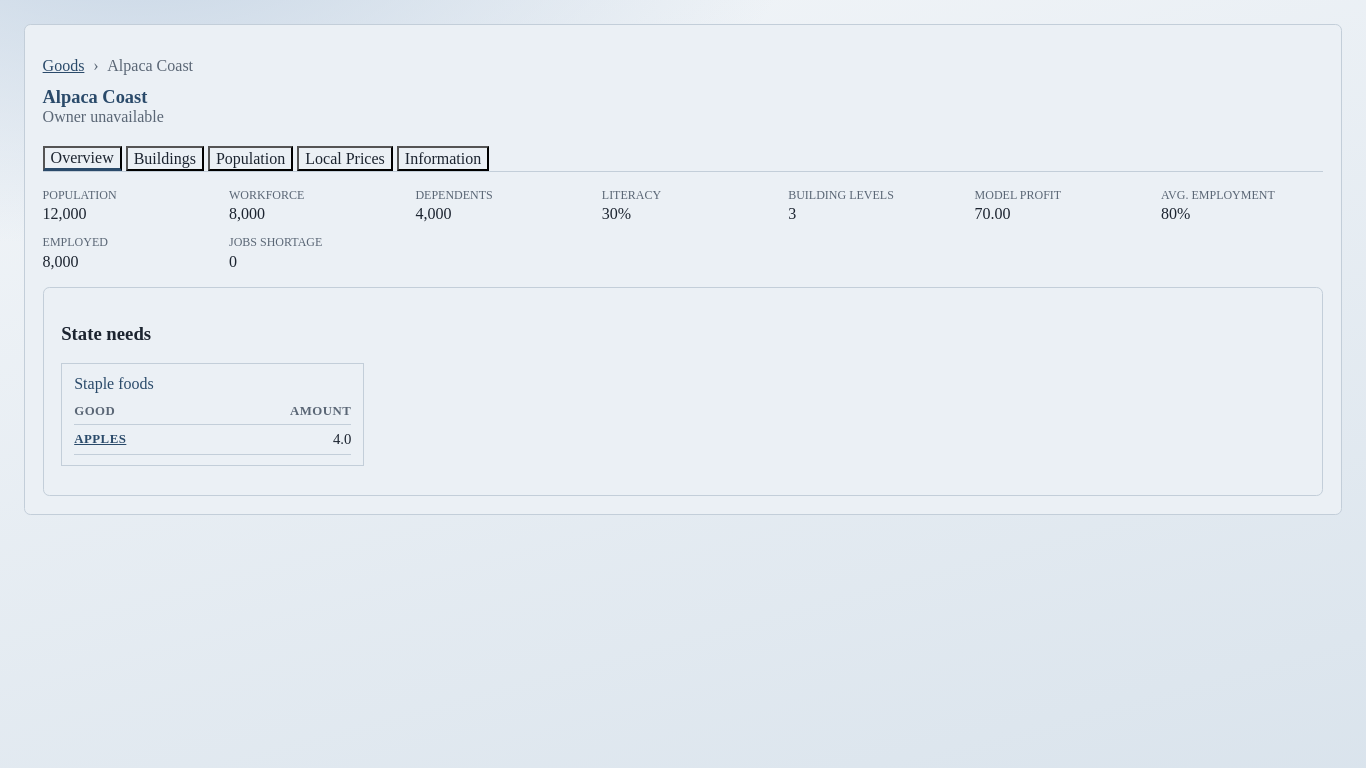
Test: PriceExplorer › opens a building detail route with workforce and linked goods
The width and height of the screenshot is (1366, 768).
Click the tab "Buildings".
click(165, 158)  # box [126,146,204,171]
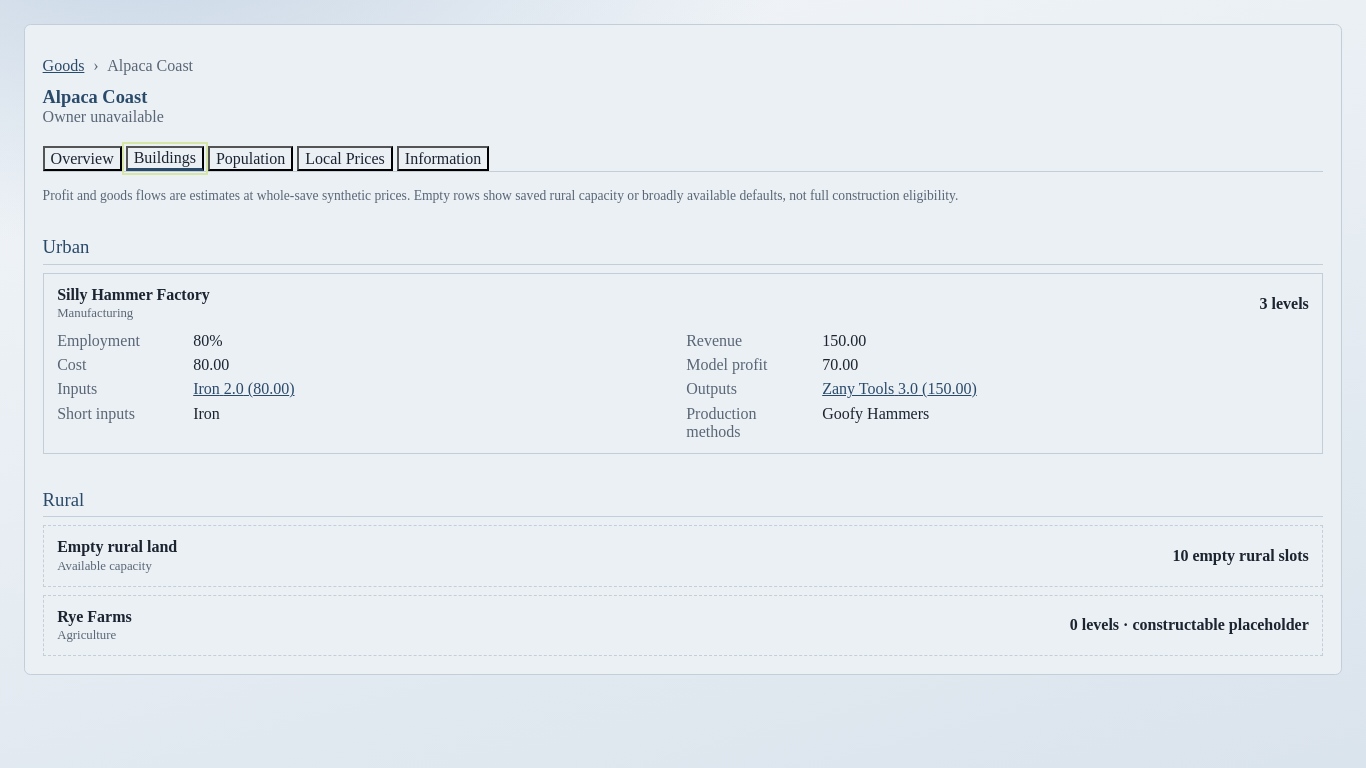
Click the link "Silly Hammer Factory".
click(134, 295)  # box [57,286,210,304]
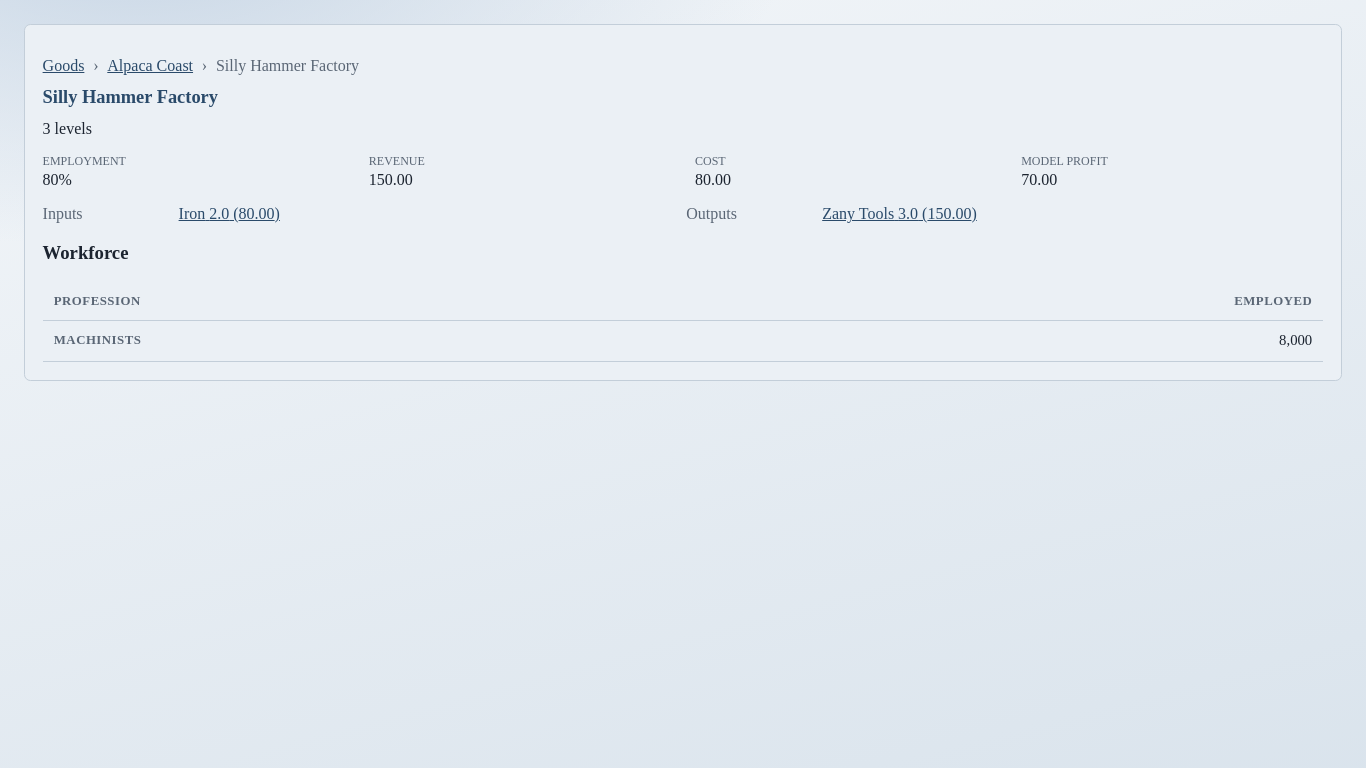
Check: the heading "Silly Hammer Factory" is shown, box [43,87,218,108]
Check: the heading "Workforce" is shown, box [43,242,128,263]
Check: the column heading "Machinists" is shown, box [43,321,712,361]
